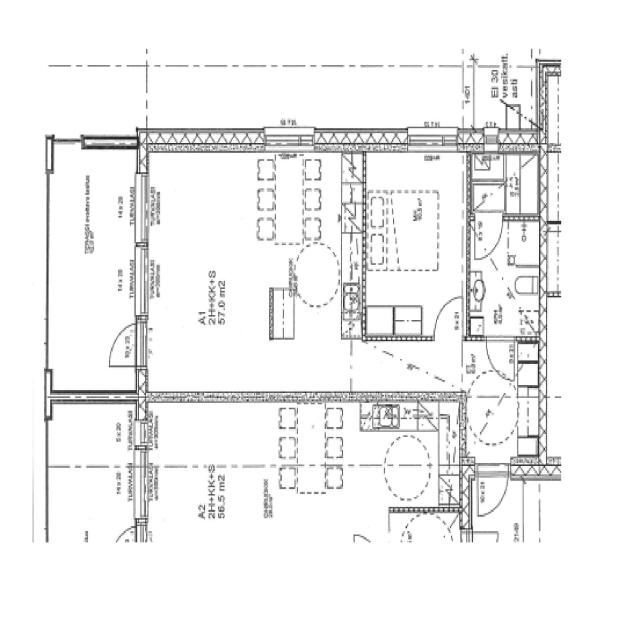door: (102, 317, 144, 371), (467, 206, 505, 264), (430, 291, 468, 343), (476, 466, 510, 519), (484, 334, 516, 381), (132, 148, 151, 180)
window: (52, 386, 137, 408), (132, 160, 154, 243), (131, 240, 151, 324), (262, 124, 316, 152), (405, 125, 456, 152)
zone: (142, 145, 284, 397), (44, 135, 142, 397), (362, 145, 467, 342), (466, 214, 546, 341), (468, 150, 544, 218)
